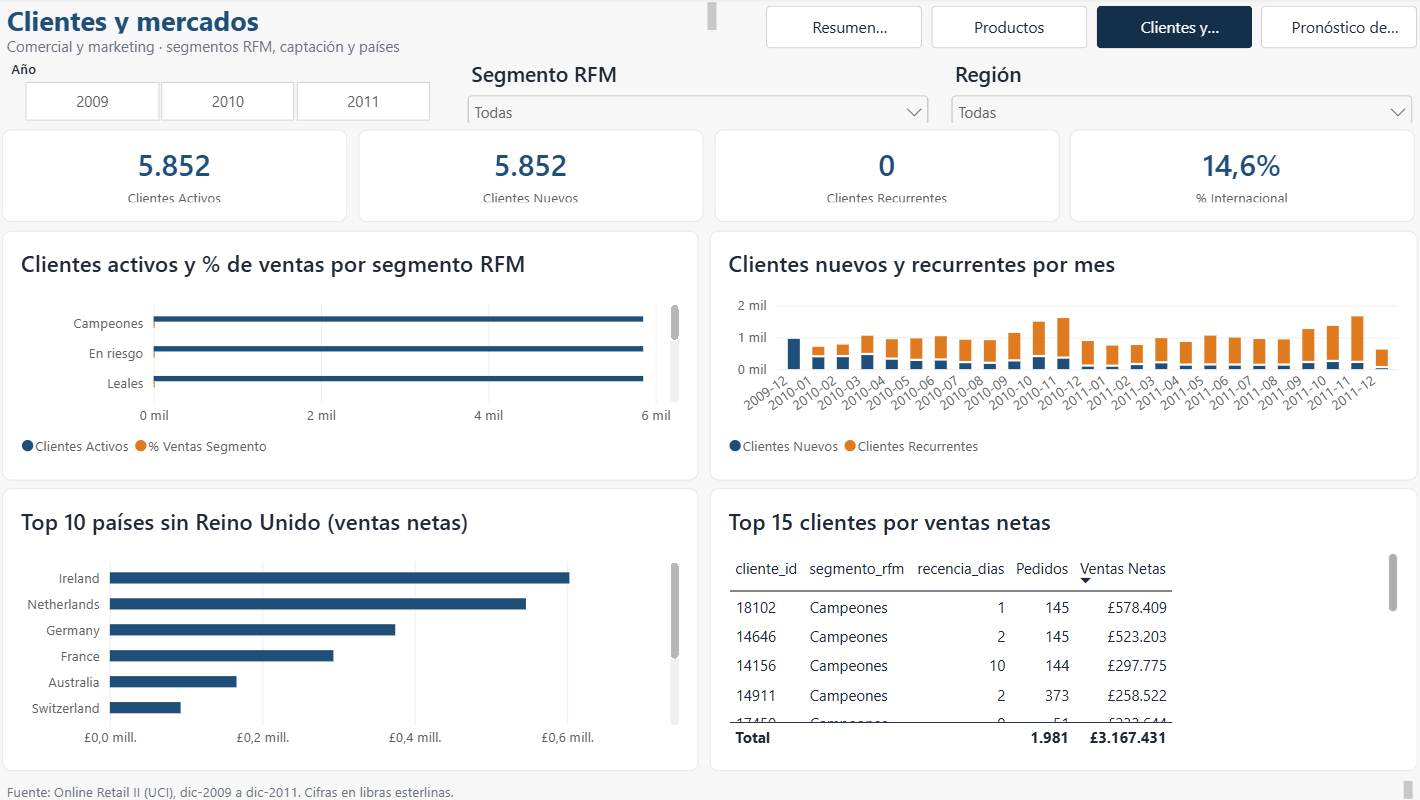

What the dashboard file says about the page in this screenshot:
{"tool":"powerbi","page":{"name":"Clientes y mercados","canvas":[1280,720],"ordinal":2},"visuals":[{"type":"textbox","box":[10,2,640,32],"z":33000},{"type":"textbox","box":[10,32,640,22],"z":34000},{"type":"pageNavigator","box":[690,8,580,38],"z":35000},{"type":"textbox","box":[10,696,1260,20],"z":36000},{"type":"slicer","fields":{"Values":["dim_fecha.anio"]},"box":[10,56,400,56],"z":37000},{"type":"slicer","fields":{"Values":["dim_cliente.segmento_rfm"]},"box":[420,56,420,56],"z":38000},{"type":"slicer","fields":{"Values":["dim_pais.region"]},"box":[850,56,420,56],"z":39000},{"type":"card","fields":{"Values":["_Medidas.Clientes Activos"]},"box":[10,118,307,82],"z":40000},{"type":"card","fields":{"Values":["_Medidas.Clientes Nuevos"]},"box":[327,118,307,82],"z":41000},{"type":"card","fields":{"Values":["_Medidas.Clientes Recurrentes"]},"box":[644,118,307,82],"z":42000},{"type":"card","fields":{"Values":["_Medidas.% Internacional"]},"box":[961,118,307,82],"z":43000},{"type":"clusteredBarChart","title":"Clientes activos y % de ventas por segmento RFM","fields":{"Category":["dim_cliente.segmento_rfm"],"Y":["_Medidas.Clientes Activos","_Medidas.% Ventas Segmento"]},"box":[10,208,620,222],"z":44000},{"type":"columnChart","title":"Clientes nuevos y recurrentes por mes","fields":{"Category":["dim_fecha.anio_mes"],"Y":["_Medidas.Clientes Nuevos","_Medidas.Clientes Recurrentes"]},"box":[640,208,630,222],"z":45000},{"type":"clusteredBarChart","title":"Top 10 países sin Reino Unido (ventas netas)","fields":{"Category":["dim_pais.pais"],"Y":["_Medidas.Ventas Netas"]},"box":[10,438,620,252],"z":46000},{"type":"tableEx","title":"Top 15 clientes por ventas netas","fields":{"Values":["dim_cliente.cliente_id","dim_cliente.segmento_rfm","dim_cliente.recencia_dias","_Medidas.Pedidos","_Medidas.Ventas Netas"]},"box":[640,438,630,252],"z":47000}]}

Visuals, with their boxes in screenshot pixels (x1, y1, x2, y2), scaled from the page's 1280x720 canvas onto the 1420x800 screenshot:
textbox: <bbox>11, 2, 721, 38</bbox>
textbox: <bbox>11, 36, 721, 60</bbox>
pageNavigator: <bbox>765, 9, 1409, 51</bbox>
textbox: <bbox>11, 773, 1409, 796</bbox>
slicer - dim_fecha.anio: <bbox>11, 62, 455, 124</bbox>
slicer - dim_cliente.segmento_rfm: <bbox>466, 62, 932, 124</bbox>
slicer - dim_pais.region: <bbox>943, 62, 1409, 124</bbox>
card - _Medidas.Clientes Activos: <bbox>11, 131, 352, 222</bbox>
card - _Medidas.Clientes Nuevos: <bbox>363, 131, 703, 222</bbox>
card - _Medidas.Clientes Recurrentes: <bbox>714, 131, 1055, 222</bbox>
card - _Medidas.% Internacional: <bbox>1066, 131, 1407, 222</bbox>
"Clientes activos y % de ventas por segmento RFM" clusteredBarChart: <bbox>11, 231, 699, 478</bbox>
"Clientes nuevos y recurrentes por mes" columnChart: <bbox>710, 231, 1409, 478</bbox>
"Top 10 países sin Reino Unido (ventas netas)" clusteredBarChart: <bbox>11, 487, 699, 767</bbox>
"Top 15 clientes por ventas netas" tableEx: <bbox>710, 487, 1409, 767</bbox>
